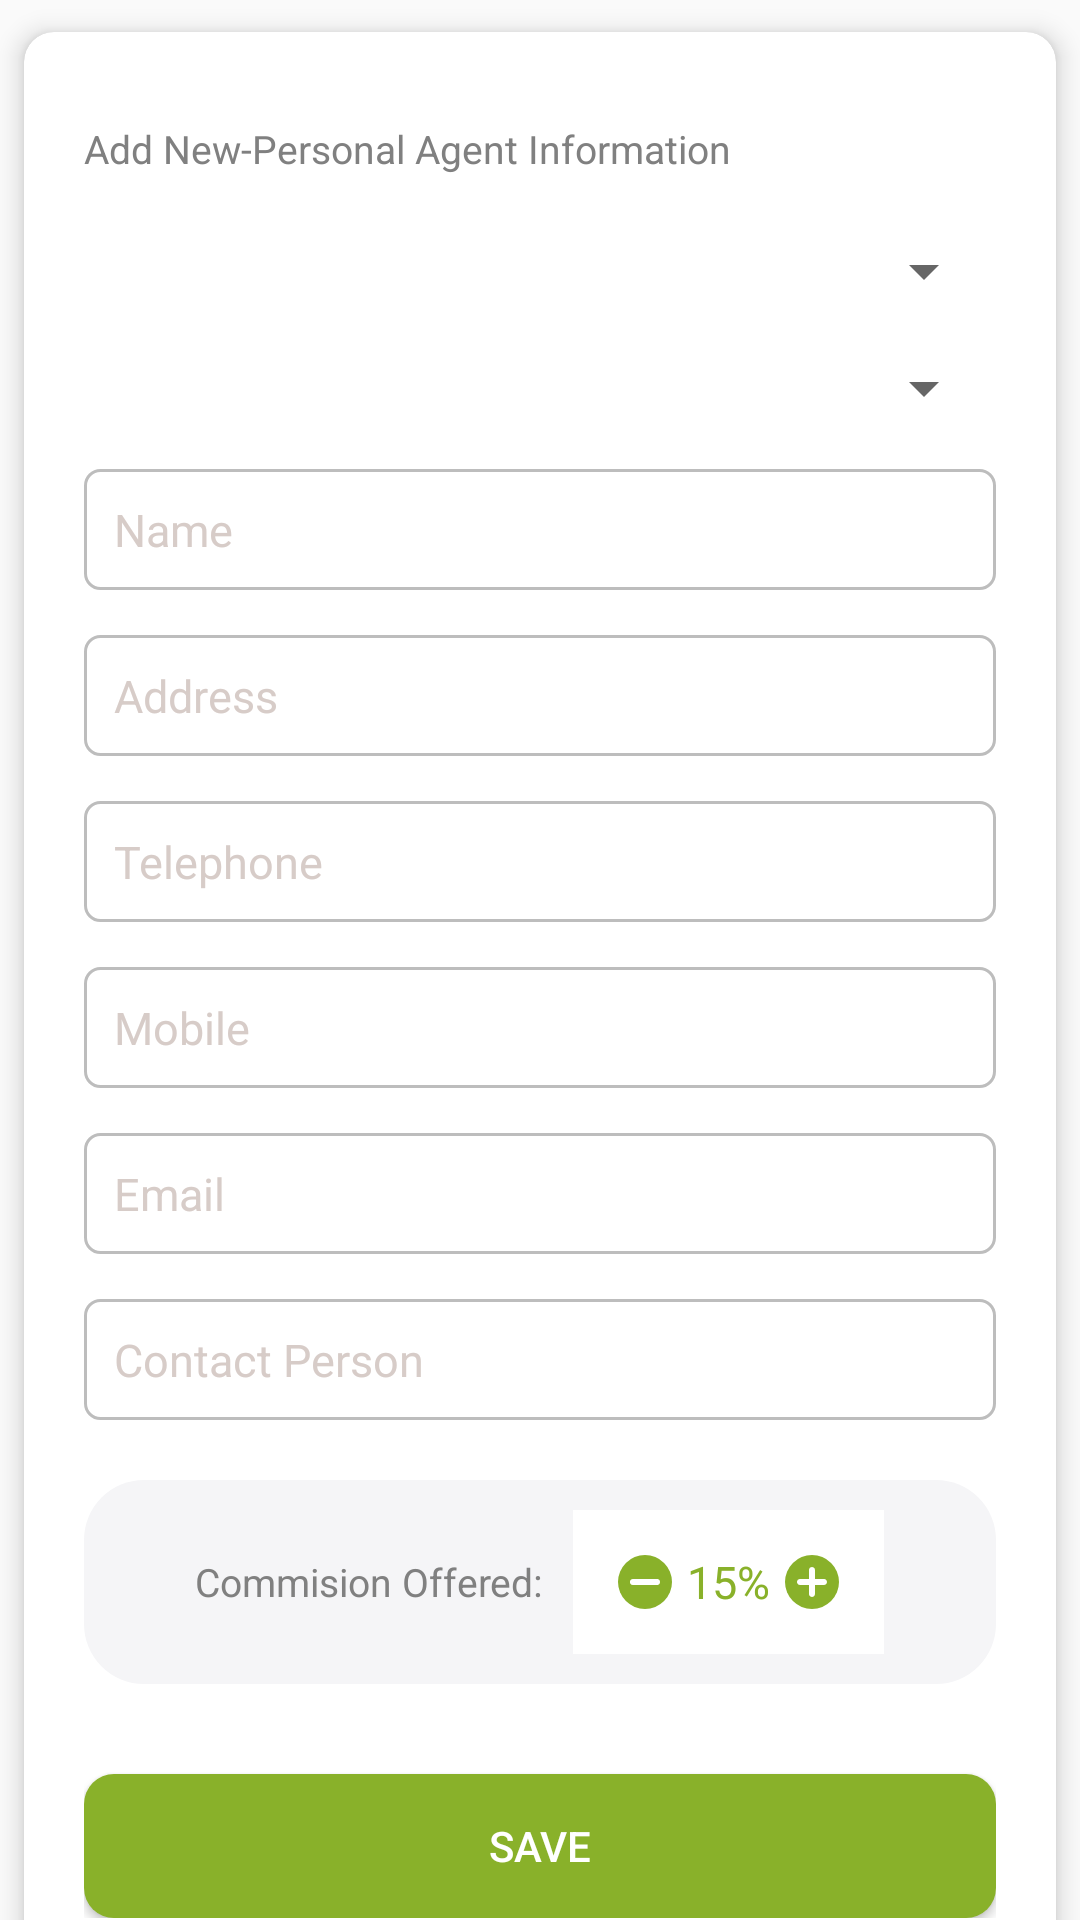

Point at icon controls on the screen. Image size 1080w x 1920h, points as (x,y).
minus: (645,1582)
plus: (812,1582)
